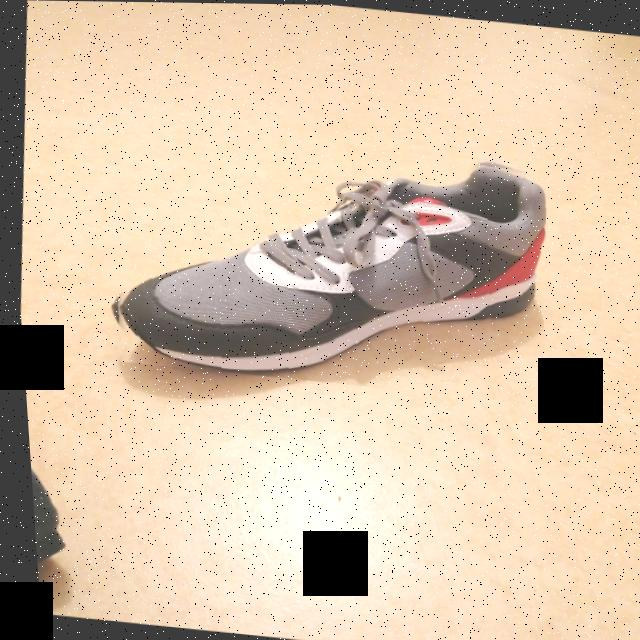shoe: (91, 121, 557, 403)
